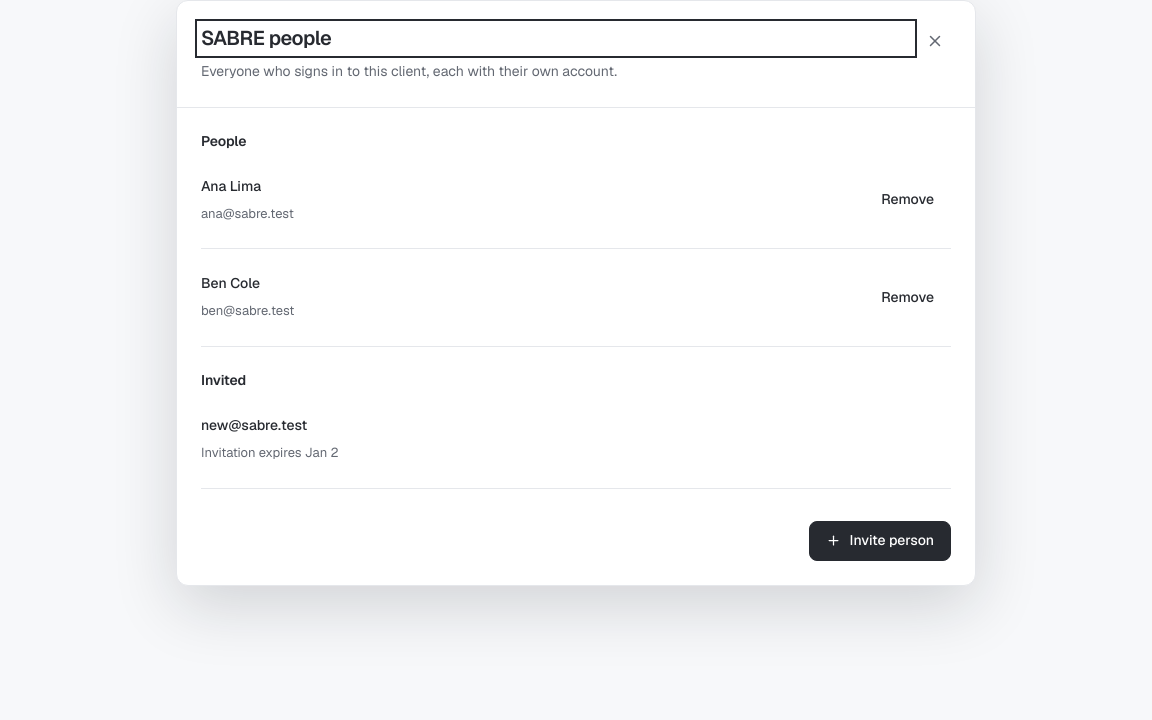
it: ClientPeopleDialog › keeps a failed removal open with the reason, ready to try again
Step 1. Click the button with aria-label "Remove Ben Cole" → [908, 298], box [864,278,951,318]
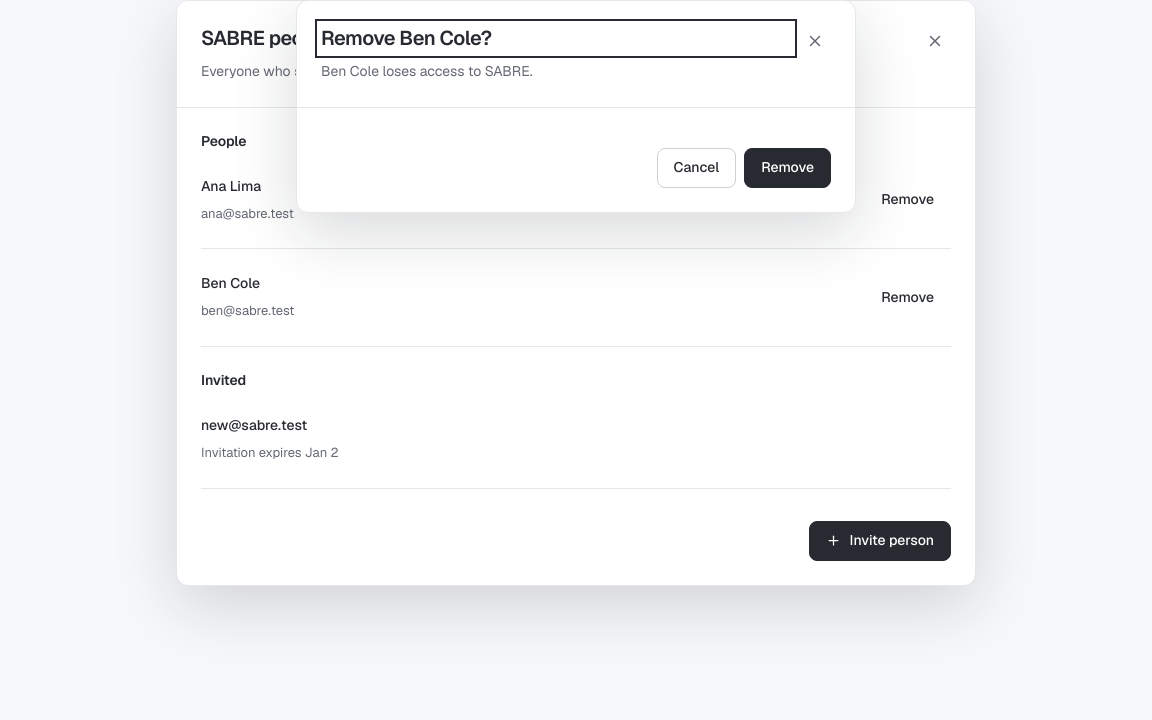
Step 2. Click the button "Remove" below "Ben Cole loses access to SABRE." → [788, 168], box [744,148,831,188]
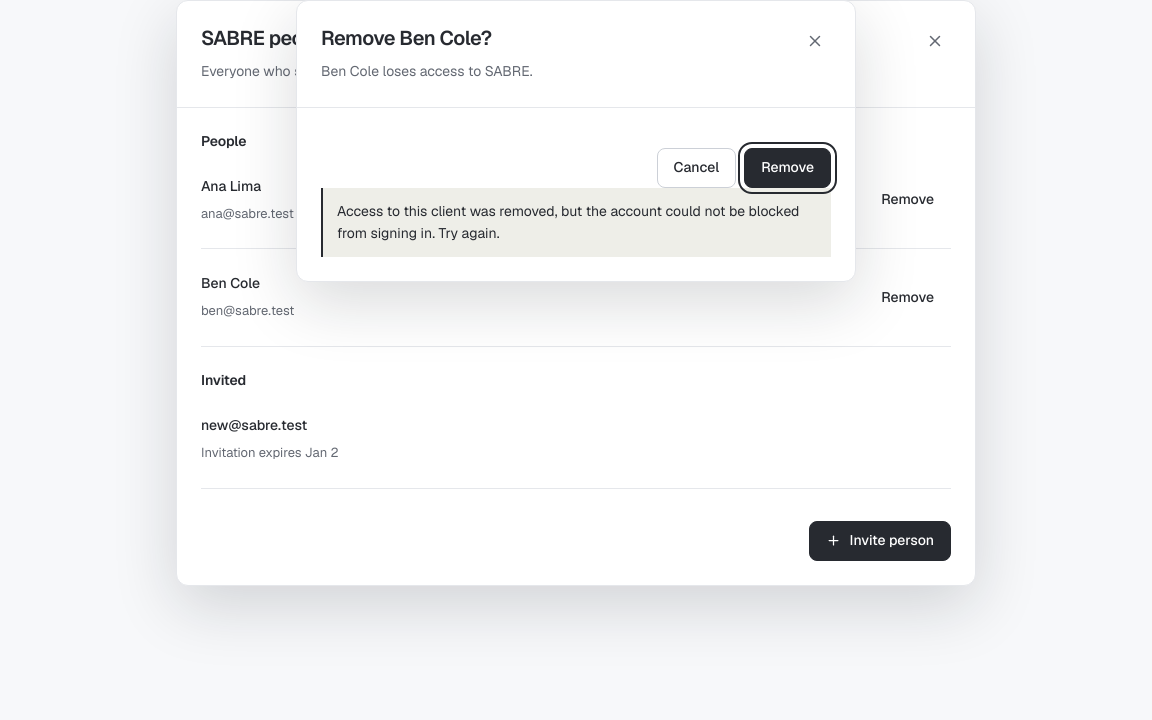
Expected: the button "Remove" below "Ben Cole loses access to SABRE." is enabled, [744,148,831,188]
Expected: the message shows "could not be blocked from signing in", [337,202,799,242]
